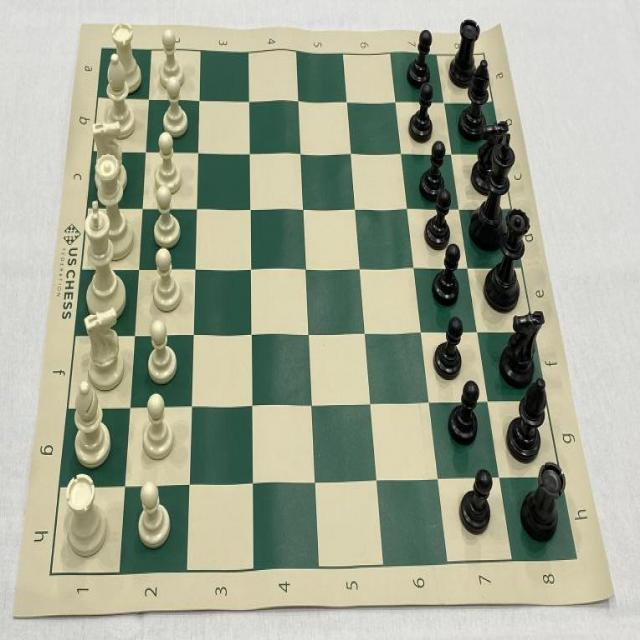black-bishop: (506, 378, 548, 462), (460, 56, 493, 142)
black-king: (469, 138, 517, 252)
black-knight: (498, 309, 546, 385), (469, 119, 512, 196)
black-pawn: (442, 378, 482, 448), (458, 469, 495, 540), (429, 315, 464, 380), (428, 244, 462, 308), (419, 138, 449, 202), (424, 190, 454, 252), (409, 82, 436, 144), (406, 28, 432, 92)
black-queen: (484, 204, 531, 315)
black-rook: (520, 463, 568, 545), (447, 12, 481, 92)
white-bishop: (70, 380, 113, 469), (102, 53, 136, 138)
white-king: (80, 198, 126, 322)
white-knight: (81, 306, 124, 392), (90, 119, 130, 192)
white-pawn: (132, 480, 173, 550), (139, 392, 174, 463), (150, 246, 183, 314), (145, 317, 178, 385), (152, 185, 184, 246), (151, 132, 181, 196), (159, 76, 188, 142), (156, 26, 185, 89)
white-queen: (93, 152, 134, 262)
white-rook: (62, 472, 107, 560), (109, 18, 143, 94)
